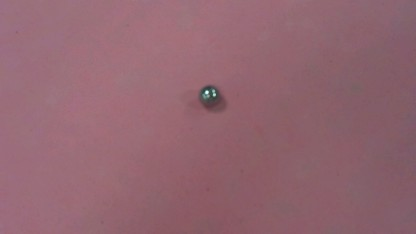ironball: (195, 82, 219, 104)
